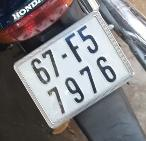5: (73, 22, 105, 58)
6: (93, 52, 121, 87), (27, 53, 54, 88)
7: (75, 62, 103, 99), (42, 83, 71, 118), (39, 46, 66, 81)
9: (61, 72, 89, 109)
F: (60, 30, 89, 67)
